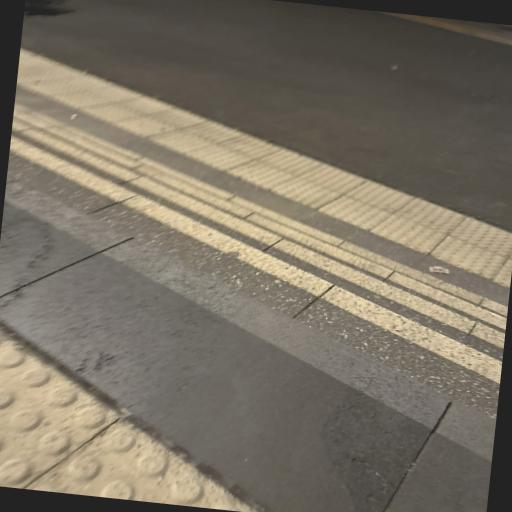stairs: (10, 49, 512, 387)
